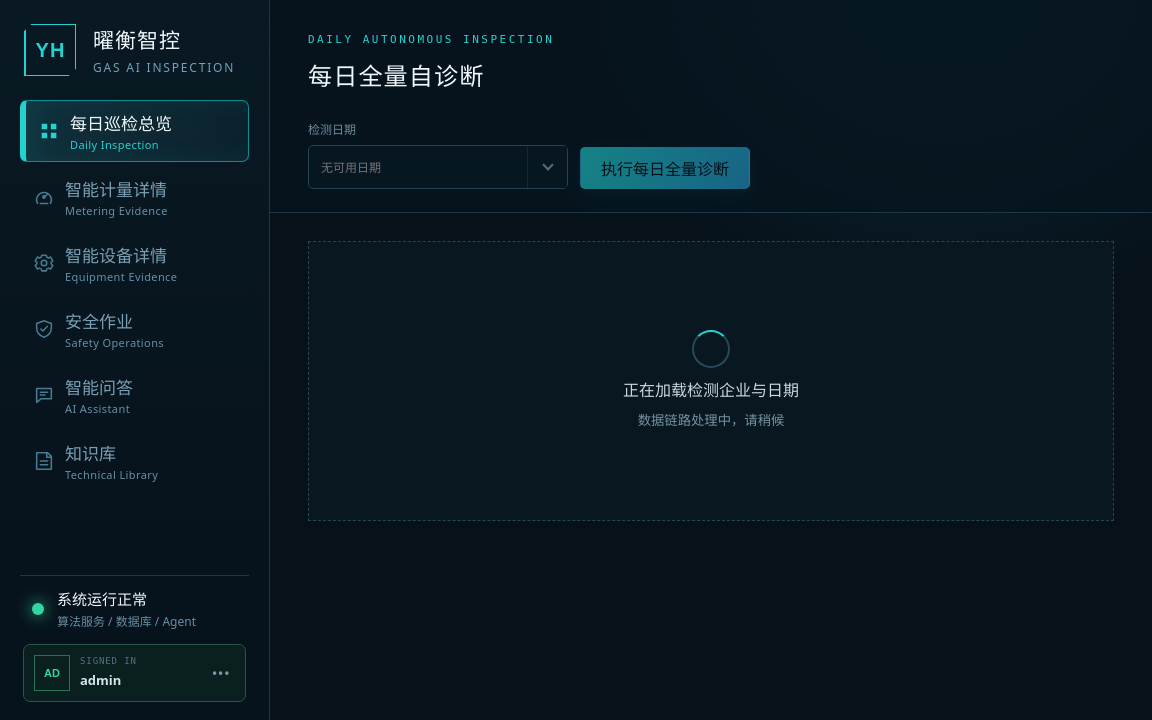
Test: Agent 自动调用控制 › 账户菜单提供系统设置和退出登录
Click the button named "打开账户菜单": (222, 673) [208,659,235,687]
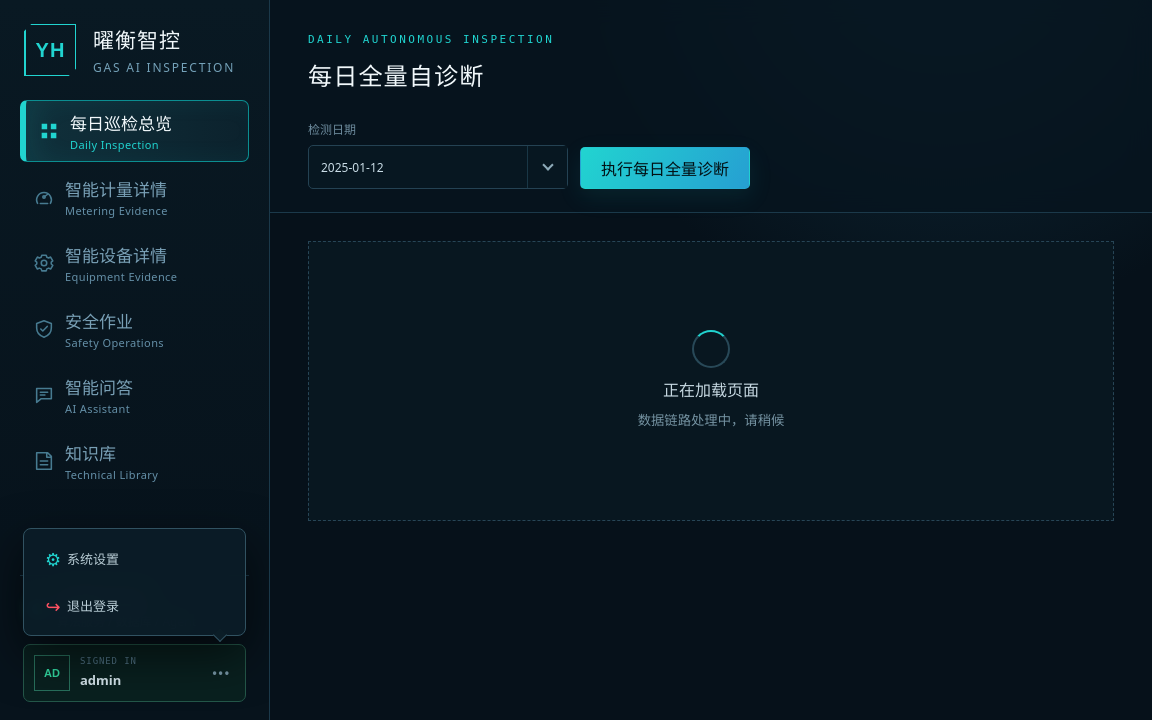
Expected: the menu item "⚙ 系统设置" is shown, [32,537,237,580]
Click the menu item "↪ 退出登录": (134, 606) [32,584,237,627]
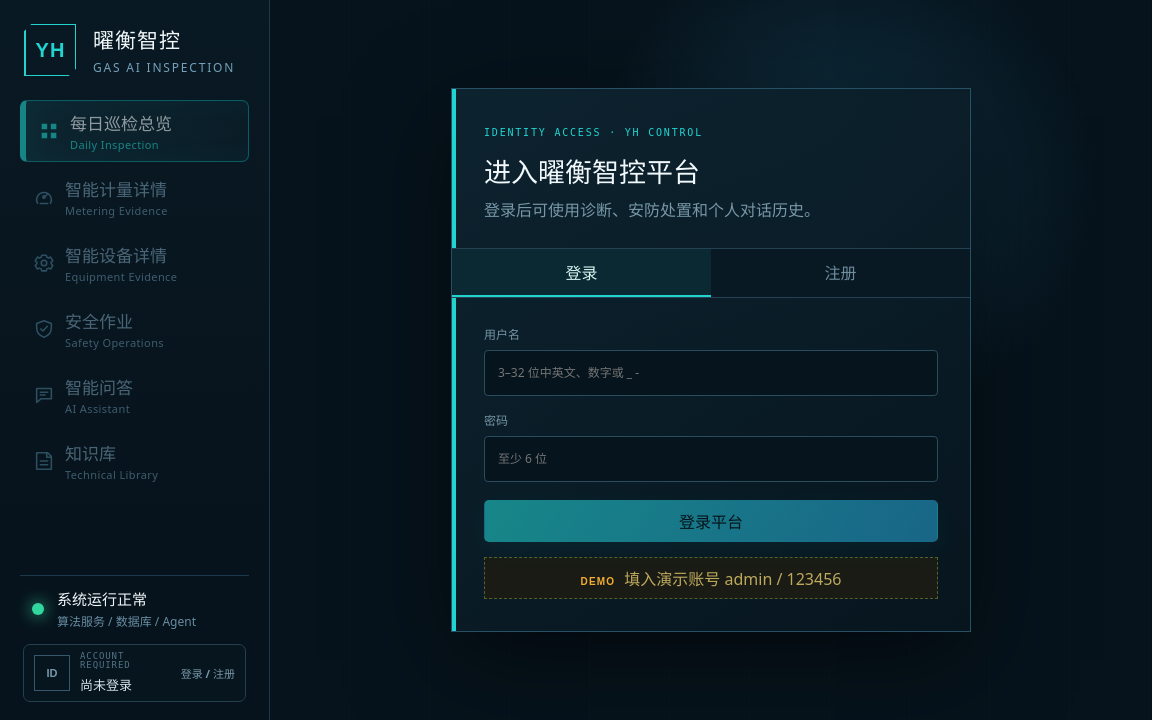
Expected: the heading "进入曜衡智控平台" is shown, [484,153,700,190]
